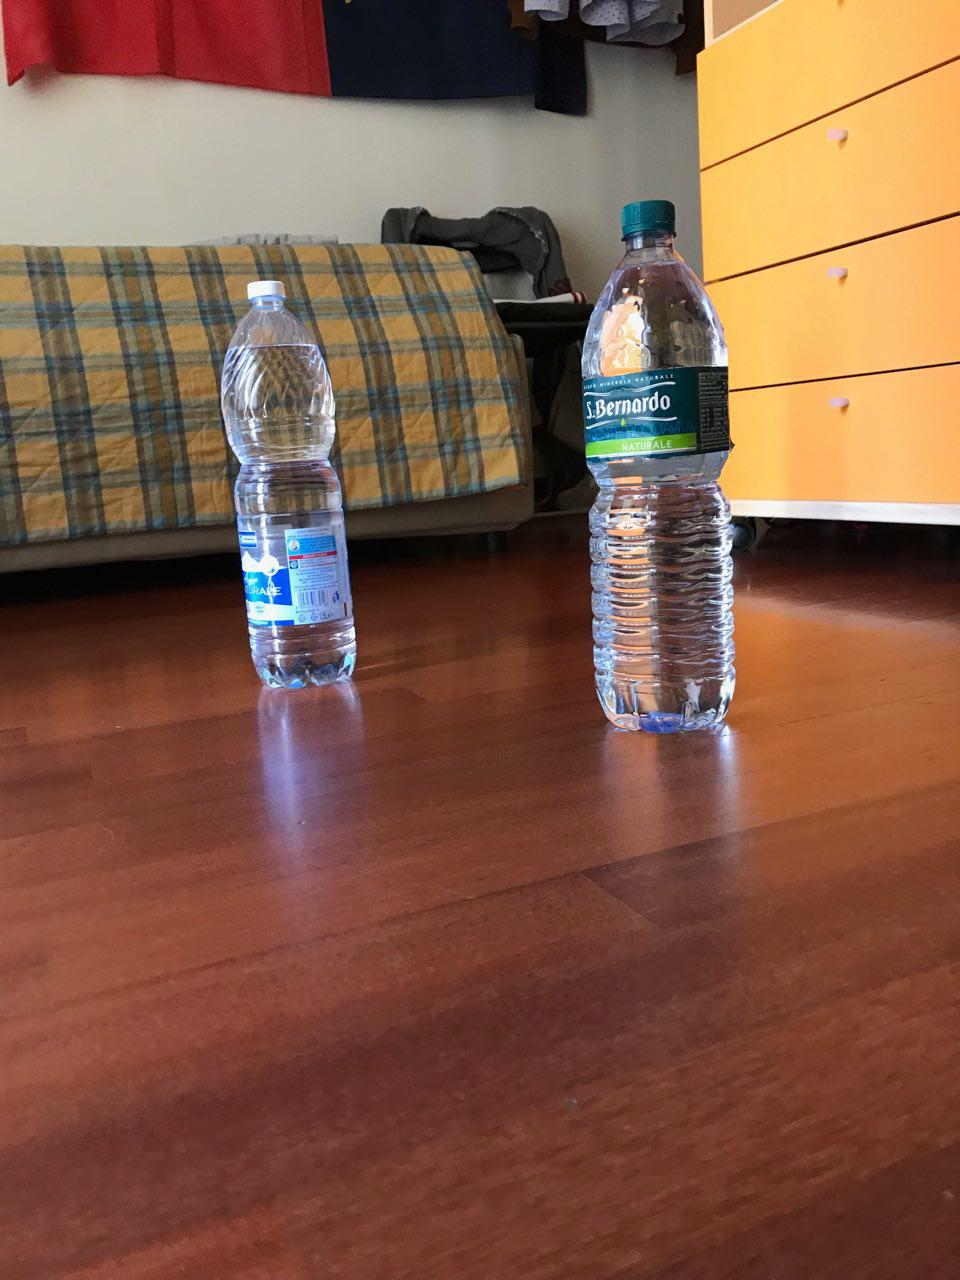san_bernardo: (579, 199, 737, 734)
